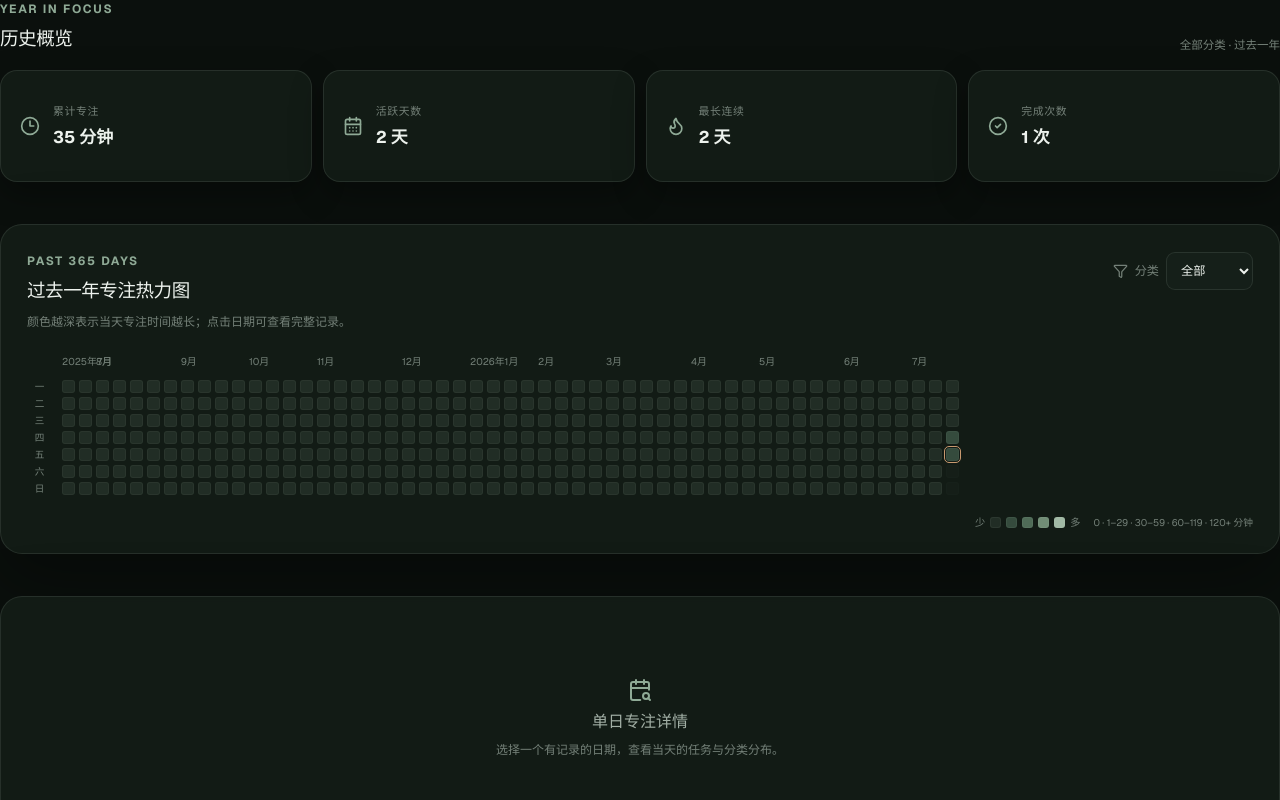
Test: HistoryDashboard › shows the selected day's tasks after clicking a heatmap date
Click the button named "2026年7月16日，专注10 分钟，共 1 次记录，强度等级 1": [952, 438] box [946,431,959,444]
(page scrolled)
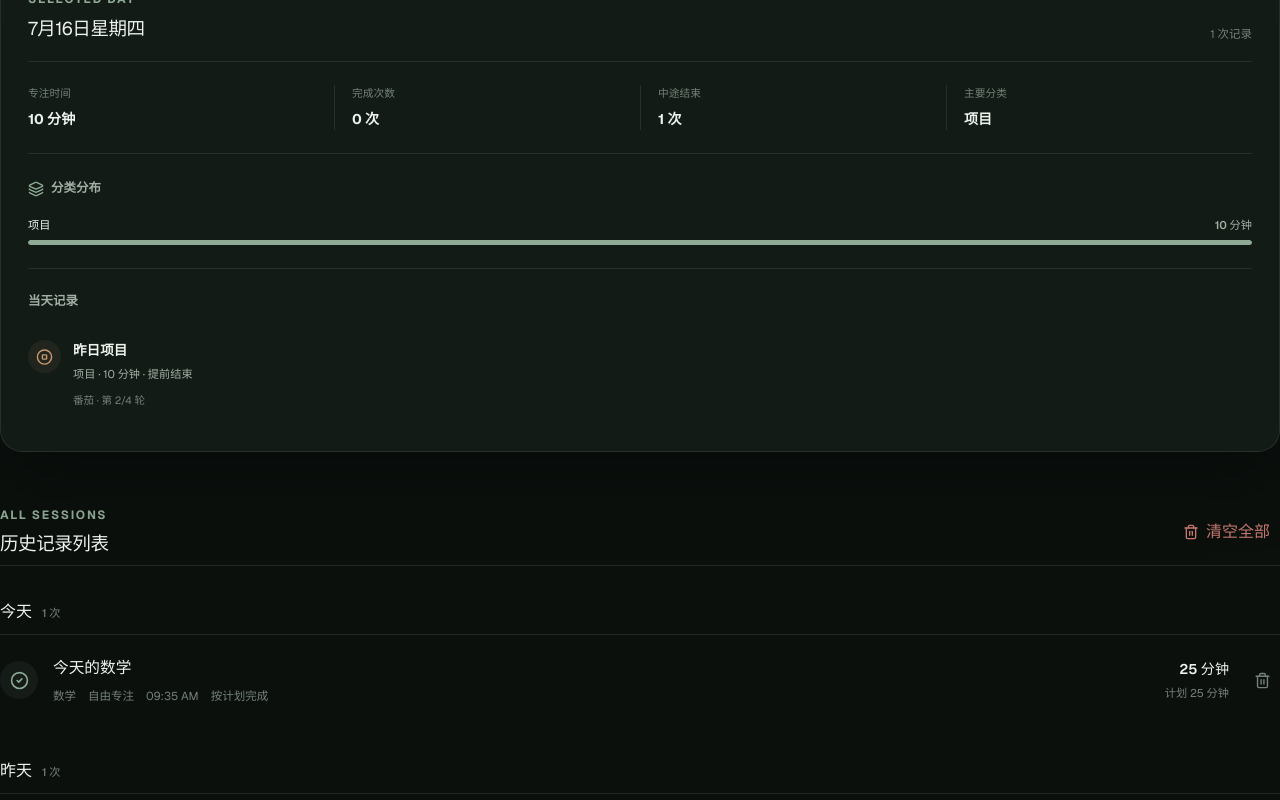
Result: the 1st heading is shown at [28,15,145,42]
Result: the text "昨日项目" is shown at [73,341,127,359]
Result: the text "番茄 · 第 2/4 轮" is shown at [73,393,145,407]
